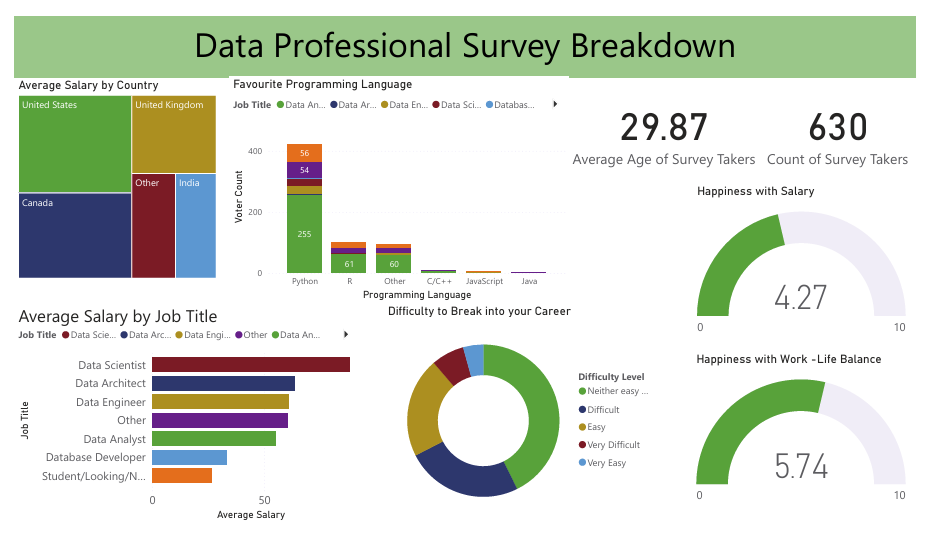

Layout of this report page (visuals, bound fields, positions):
{"tool":"powerbi","page":{"name":"Page 1","canvas":[1280,720],"ordinal":0},"visuals":[{"type":"textbox","box":[0,0,1280,86.7],"z":0},{"type":"card","fields":{"Values":["CountNonNull(Data Professional Survey.Unique ID)"]},"box":[1057.1,87.1,222.9,150],"z":1000},{"type":"card","fields":{"Values":["Avg(Data Professional Survey.Q10 - Current Age)"]},"box":[787.1,87.1,270,150],"z":2000},{"type":"barChart","title":"Average Salary by Job Title","fields":{"Category":["Data Professional Survey.Q1 - Which Title Best Fits your Current Role?.1"],"Y":["Avg(Data Professional Survey.Average Salary)"],"Series":["Data Professional Survey.Q1 - Which Title Best Fits your Current Role?.1"]},"box":[0,406.7,490,313.3],"z":3000},{"type":"columnChart","title":"Favourite Programming Language","fields":{"Category":["Data Professional Survey.Q5 - Favorite Programming Language.1"],"Y":["CountNonNull(Data Professional Survey.Unique ID)"],"Series":["Data Professional Survey.Q1 - Which Title Best Fits your Current Role?.1"]},"box":[305,85,481.7,321.7],"z":4000},{"type":"treemap","title":"Average Salary by Country","fields":{"Group":["Data Professional Survey.Q11 - Which Country do you live in?.1"],"Values":["Avg(Data Professional Survey.Average Salary)"]},"box":[0,87.1,291.4,288.6],"z":5000},{"type":"gauge","title":"Happiness with Work -Life Balance","fields":{"Y":["Avg(Data Professional Survey.Q6 - How Happy are you in your Current Position with the following? (Work/Life Balance))"],"MinValue":["Min(Data Professional Survey.Q6 - How Happy are you in your Current Position with the following? (Work/Life Balance))1"],"MaxValue":["Max(Data Professional Survey.Q6 - How Happy are you in your Current Position with the following? (Work/Life Balance))2"]},"box":[962.9,475.7,307.1,238.6],"z":6000},{"type":"gauge","title":"Happiness with Salary","fields":{"Y":["Avg(Data Professional Survey.Q6 - How Happy are you in your Current Position with the following? (Salary))"],"MinValue":["Min(Data Professional Survey.Q6 - How Happy are you in your Current Position with the following? (Salary))"],"MaxValue":["Max(Data Professional Survey.Q6 - How Happy are you in your Current Position with the following? (Salary))1"]},"box":[964.3,237.1,305.7,238.6],"z":7000},{"type":"donutChart","title":"Difficulty to Break into your Career","fields":{"Y":["CountNonNull(Data Professional Survey.Q7 - How difficult was it for you to break into Data?)"],"Category":["Data Professional Survey.Q7 - How difficult was it for you to break into Data?"]},"box":[525,406.7,396.7,313.3],"z":8000}]}

Visuals, with their boxes in screenshot pixels (x1, y1, x2, y2), scaled from the page's 1280x720 canvas onto the 933x536 screenshot:
textbox: x1=0, y1=0, x2=932, y2=65
card - CountNonNull(Data Professional Survey.Unique ID): x1=771, y1=65, x2=932, y2=177
card - Avg(Data Professional Survey.Q10 - Current Age): x1=574, y1=65, x2=771, y2=177
"Average Salary by Job Title" barChart: x1=0, y1=303, x2=357, y2=535
"Favourite Programming Language" columnChart: x1=222, y1=63, x2=573, y2=303
"Average Salary by Country" treemap: x1=0, y1=65, x2=212, y2=280
"Happiness with Work -Life Balance" gauge: x1=702, y1=354, x2=926, y2=532
"Happiness with Salary" gauge: x1=703, y1=177, x2=926, y2=354
"Difficulty to Break into your Career" donutChart: x1=383, y1=303, x2=672, y2=535
